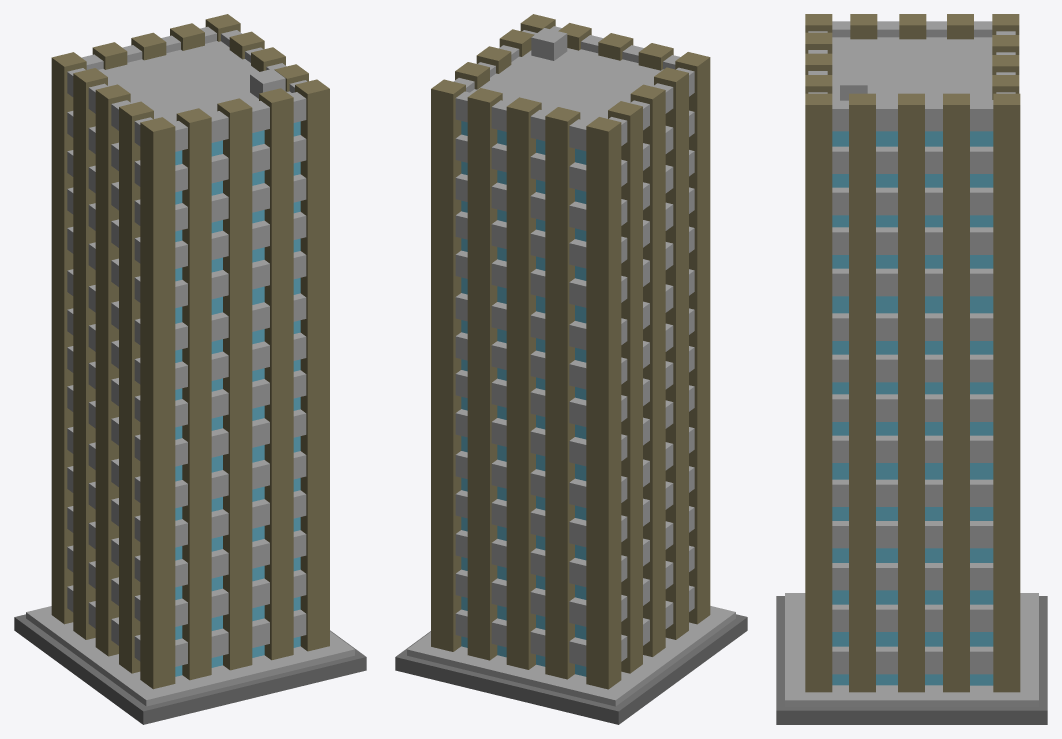
Rendered from Towers3.fbx.
3 views of the same model, side by side, from view 1: azimuth 30°, elevation 25°; view 2: azimuth 150°, elevation 25°; view 3: azimuth 270°, elevation 25° (orthographic). The views are drawn at different scales.
Parts seen in each view (by area): view 1: pCube61, pCube78, pCube79, pCube80, pCube62, pCube74, pCube75, pCube63, pCube76, pCube77, pCube65, pCube72 (+20 smaller); view 2: pCube63, pCube85, pCube54, pCube84, pCube86, pCube74, pCube61, pCube77, pCube75, pCube76, pCube65, pCube72 (+20 smaller); view 3: pCube54, pCube62, pCube65, pCube81, pCube82, pCube83, pCube74, pCube55, pCube72, pCube60, pCube64, pCube69 (+22 smaller).
Part boxes in pixels (x1,y1,x2,y2): pCube61: (140, 117, 175, 689); pCube78: (217, 98, 252, 670); pCube79: (176, 108, 211, 680); pCube80: (259, 88, 293, 660); pCube62: (295, 79, 329, 651); pCube74: (67, 26, 307, 151); pCube75: (95, 84, 130, 656); pCube63: (51, 52, 86, 624); pCube76: (73, 68, 107, 639); pCube77: (119, 101, 153, 673); pCube65: (175, 121, 300, 676); pCube72: (14, 614, 366, 724); pCube63: (586, 117, 621, 689); pCube85: (467, 88, 502, 660); pCube54: (431, 79, 465, 651); pCube84: (506, 97, 541, 669); pCube86: (545, 107, 580, 679); pCube74: (453, 26, 694, 151); pCube61: (675, 52, 710, 624); pCube77: (654, 67, 688, 639); pCube75: (630, 84, 665, 656); pCube76: (608, 101, 642, 673); pCube65: (461, 121, 586, 676); pCube72: (395, 614, 747, 724); pCube54: (993, 93, 1020, 692); pCube62: (805, 93, 832, 692); pCube65: (832, 131, 993, 685); pCube81: (898, 93, 924, 692); pCube82: (849, 93, 875, 692); pCube83: (943, 93, 969, 692); pCube74: (808, 21, 1015, 131); pCube55: (785, 593, 1038, 706); pCube72: (776, 596, 1047, 724); pCube60: (832, 354, 993, 382); pCube64: (832, 646, 993, 674); pCube69: (832, 268, 993, 296).
Bounding box in the file's own units: 9.81 × 24.44 × 9.81.
